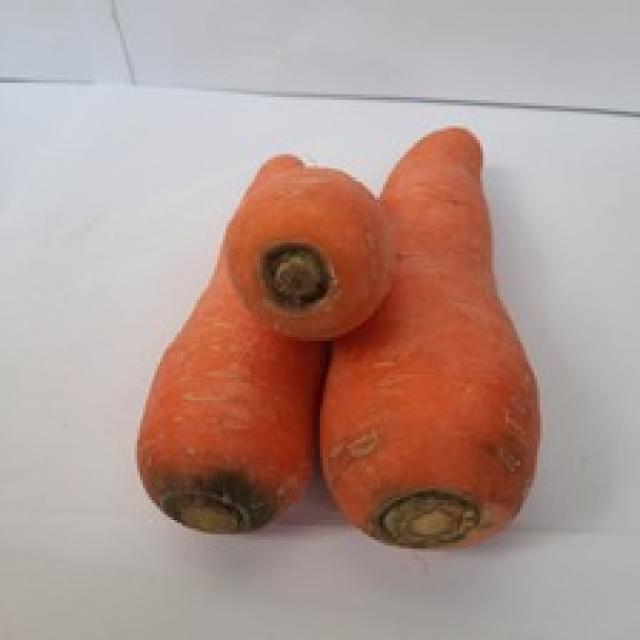Fresh_Carrot: (234, 156, 377, 334)
